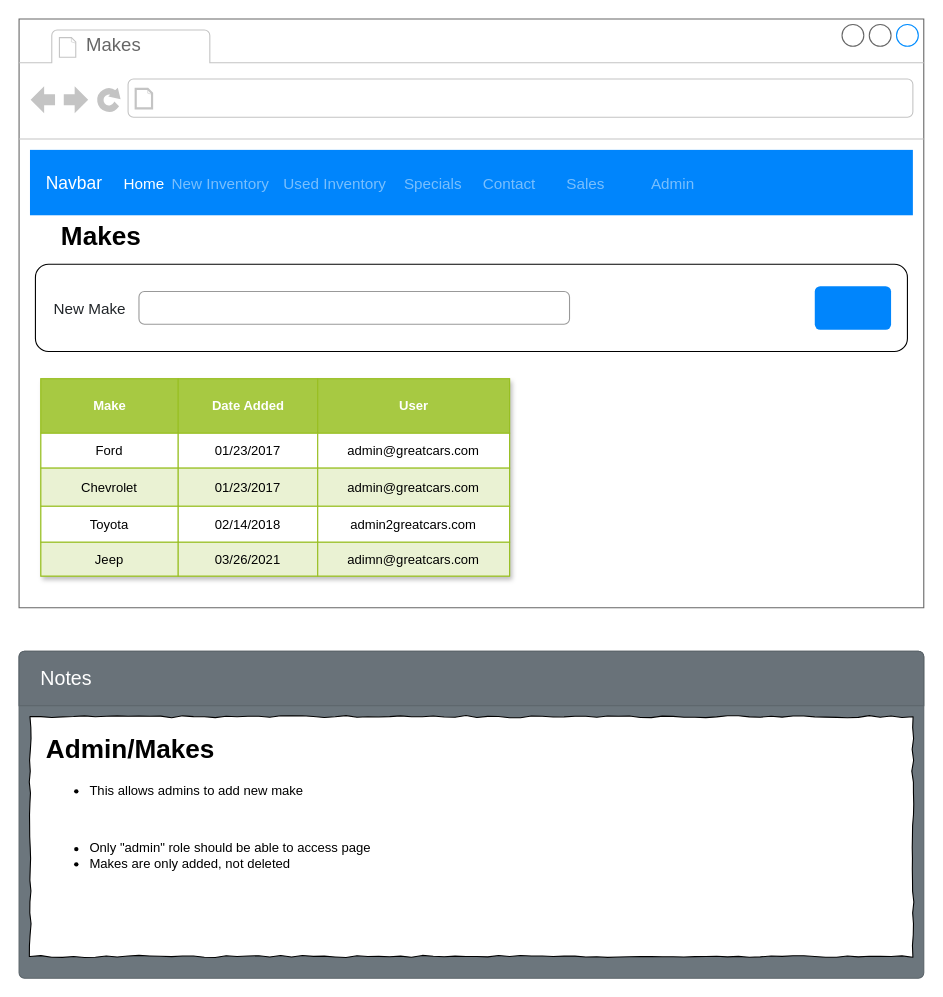
Some shapes in this 943 by 997 pixel diagram are drawn without their labels. The centre of each missing label's shape, as x and y in pixels:
https://www.greatcardeals.com/admin/makes: [373,98]
Save: [852,307]
